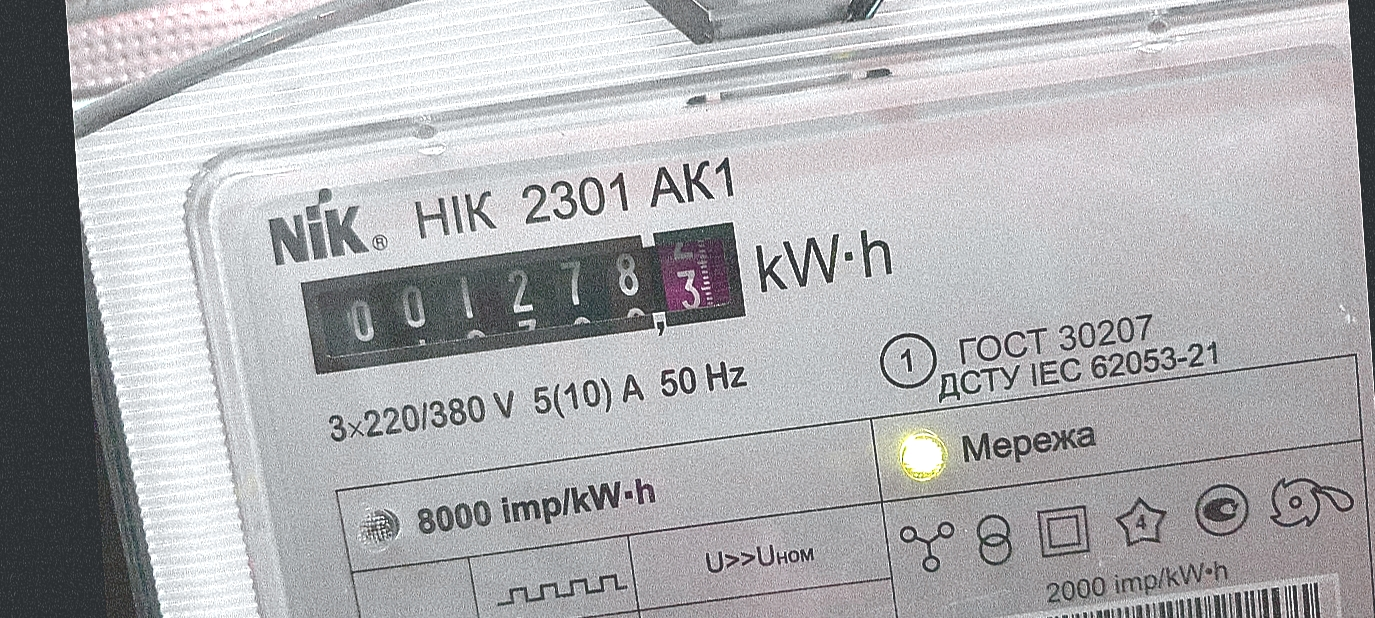0: (348, 294, 379, 344), (400, 282, 428, 330)
1: (458, 272, 478, 321)
2: (506, 265, 536, 314), (669, 239, 697, 262)
3: (675, 264, 704, 309)
7: (560, 257, 586, 307)
8: (614, 249, 642, 298)
screen: (280, 210, 766, 384)
